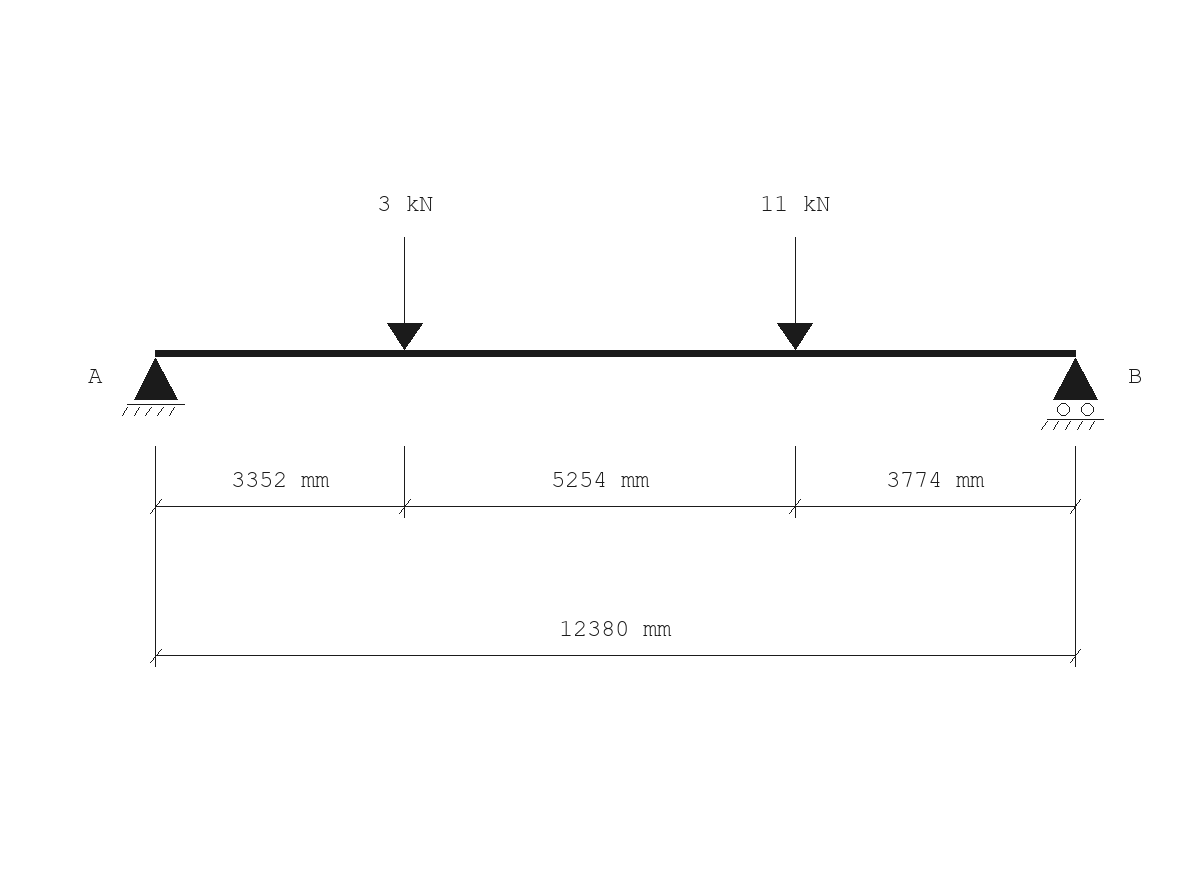pin_support: (122, 358, 185, 416)
point_load: (387, 237, 423, 350), (777, 237, 813, 350)
roller_support: (1041, 358, 1104, 430)
